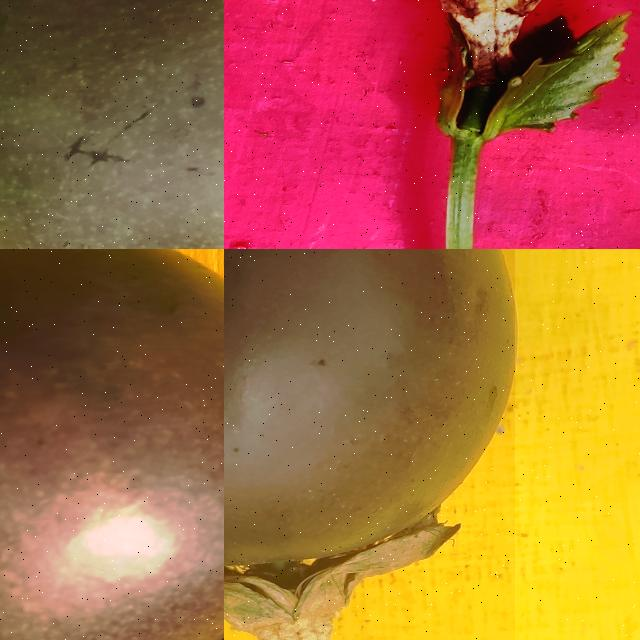Estado-4: (0, 0, 224, 249)
Estado-6: (224, 249, 515, 640)
